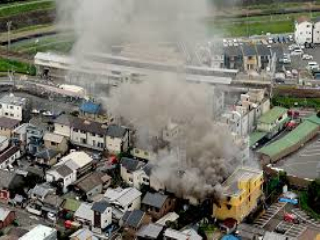smoke: (115, 54, 261, 216)
